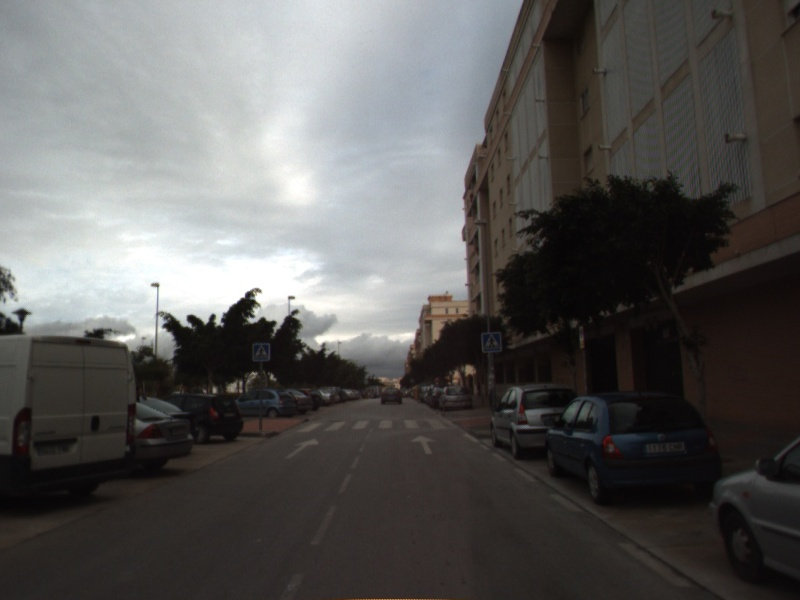STRAIGHT: (283, 436, 321, 461), (409, 433, 439, 456)
